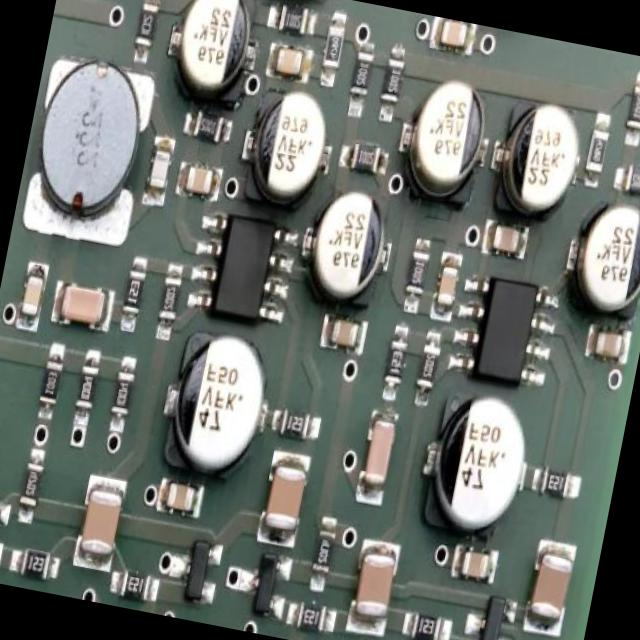IC: (200, 210, 288, 327)
capacitor: (420, 384, 540, 542), (162, 329, 280, 475), (489, 86, 589, 224), (399, 68, 496, 208), (302, 182, 400, 310), (243, 83, 340, 208), (168, 0, 264, 103), (573, 193, 640, 317), (77, 474, 134, 567), (256, 454, 310, 550), (348, 544, 398, 639), (528, 544, 580, 630), (355, 412, 402, 502), (49, 280, 114, 333), (14, 262, 50, 331), (583, 326, 634, 364), (144, 140, 176, 200), (322, 317, 368, 358), (158, 478, 202, 519), (481, 220, 525, 260), (431, 262, 462, 314), (270, 44, 310, 83), (430, 19, 470, 56), (456, 545, 496, 582), (182, 162, 215, 198)
resistor: (346, 48, 376, 108), (347, 136, 386, 180), (134, 0, 164, 56), (185, 108, 227, 148), (36, 352, 64, 408), (20, 544, 58, 585), (309, 525, 339, 576), (110, 366, 140, 416), (380, 52, 406, 108), (320, 19, 345, 77), (537, 464, 573, 504), (278, 408, 317, 443), (275, 4, 316, 35), (410, 607, 448, 640), (157, 274, 182, 323), (124, 265, 150, 312), (386, 334, 409, 385), (75, 364, 102, 406), (120, 572, 154, 605), (587, 128, 610, 170), (418, 344, 441, 386), (410, 247, 430, 294), (22, 462, 42, 507), (624, 78, 640, 131), (293, 604, 325, 630), (621, 162, 640, 194)
transistor: (177, 532, 220, 607), (246, 547, 287, 615), (471, 589, 515, 640)
